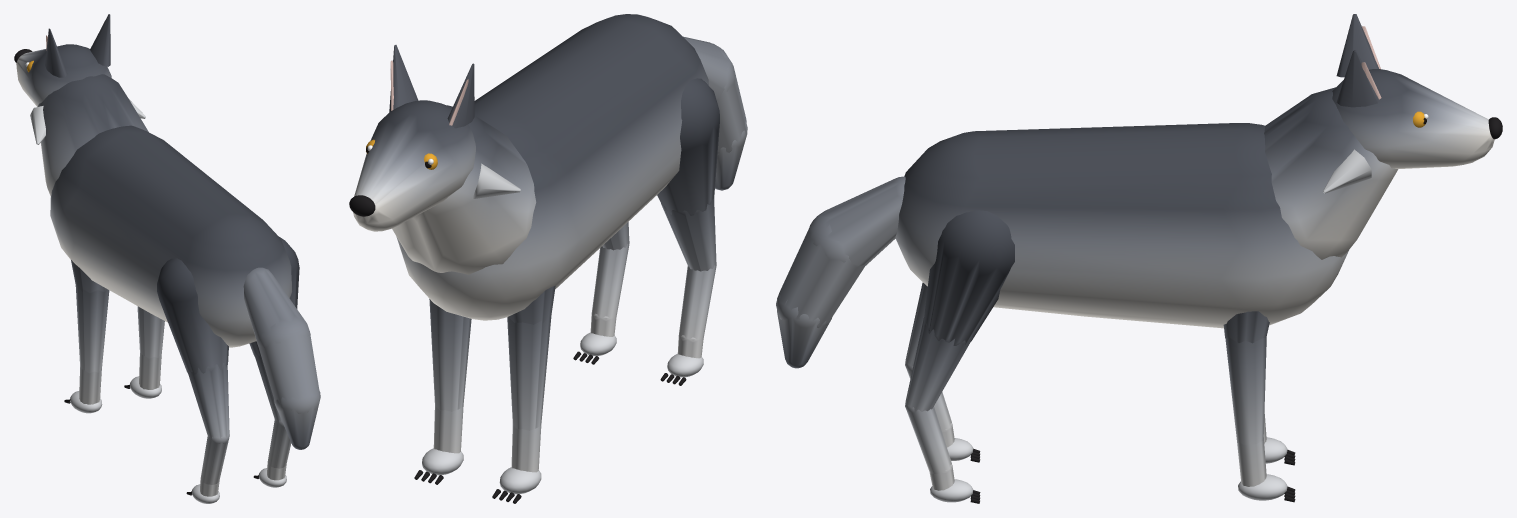
Rendered from Wolf.glb.
The picture shows the model from 3 angles, left to right: view 1: azimuth 30°, elevation 25°; view 2: azimuth 150°, elevation 25°; view 3: azimuth 270°, elevation 25°; orthographic projection. The views are drawn at different scales.
Parts seen in each view (by area): view 1: Body, LegBL, Tail, Head, LegFL, LegBR, LegFR; view 2: Body, Head, LegBL, LegFL, LegFR, Tail, LegBR; view 3: Body, LegBR, Head, Tail, LegFR, LegBL.
Part boxes in pixels (box(x1,y1,x2,y2)): Body: box(37, 74, 291, 347); LegBL: box(157, 258, 229, 503); Tail: box(243, 267, 320, 449); Head: box(14, 14, 145, 144); LegFL: box(64, 260, 109, 413); LegBR: box(249, 237, 299, 487); LegFR: box(124, 306, 164, 398); Body: box(392, 14, 708, 320); Head: box(349, 45, 520, 231); LegBL: box(657, 78, 719, 385); LegFL: box(492, 286, 555, 503); LegFR: box(414, 299, 471, 484); Tail: box(683, 36, 747, 190); LegBR: box(573, 222, 629, 364); Body: box(895, 87, 1398, 328); LegBR: box(905, 210, 1014, 503); Head: box(1323, 14, 1502, 193); Tail: box(776, 176, 905, 368); LegFR: box(1223, 311, 1295, 502); LegBL: box(905, 282, 980, 462).
Size of the model in its own units: 2.22 by 5.66 by 8.34.
1 material, 1 textured.
